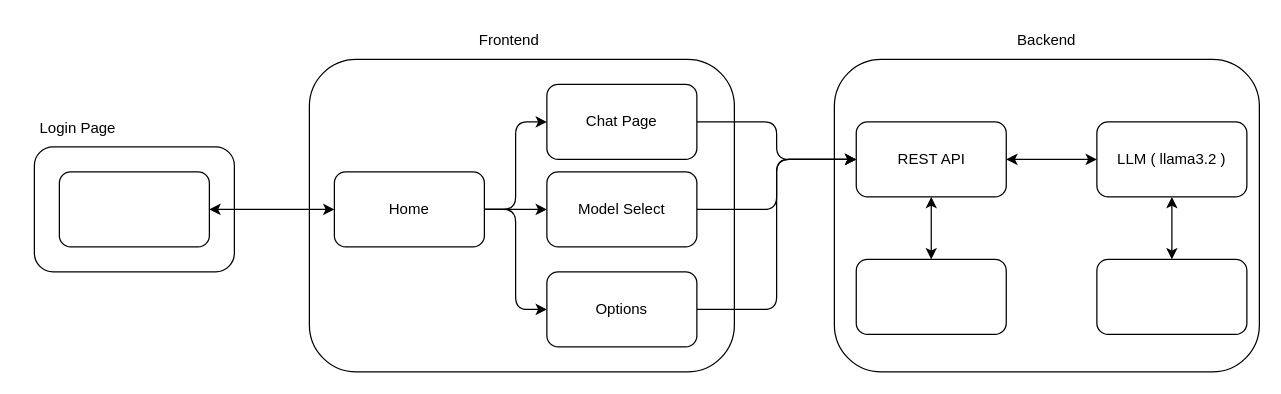
Image size: 1281x394. Some labels were removed from this diagram. The shapes that lost their labels are listed below. From the top down, each one's centre as x and y in pixels, then its label:
the point at 133,209: Oauth2 Proxy
the point at 930,296: Internal Database
the point at 1171,296: Vector DB
